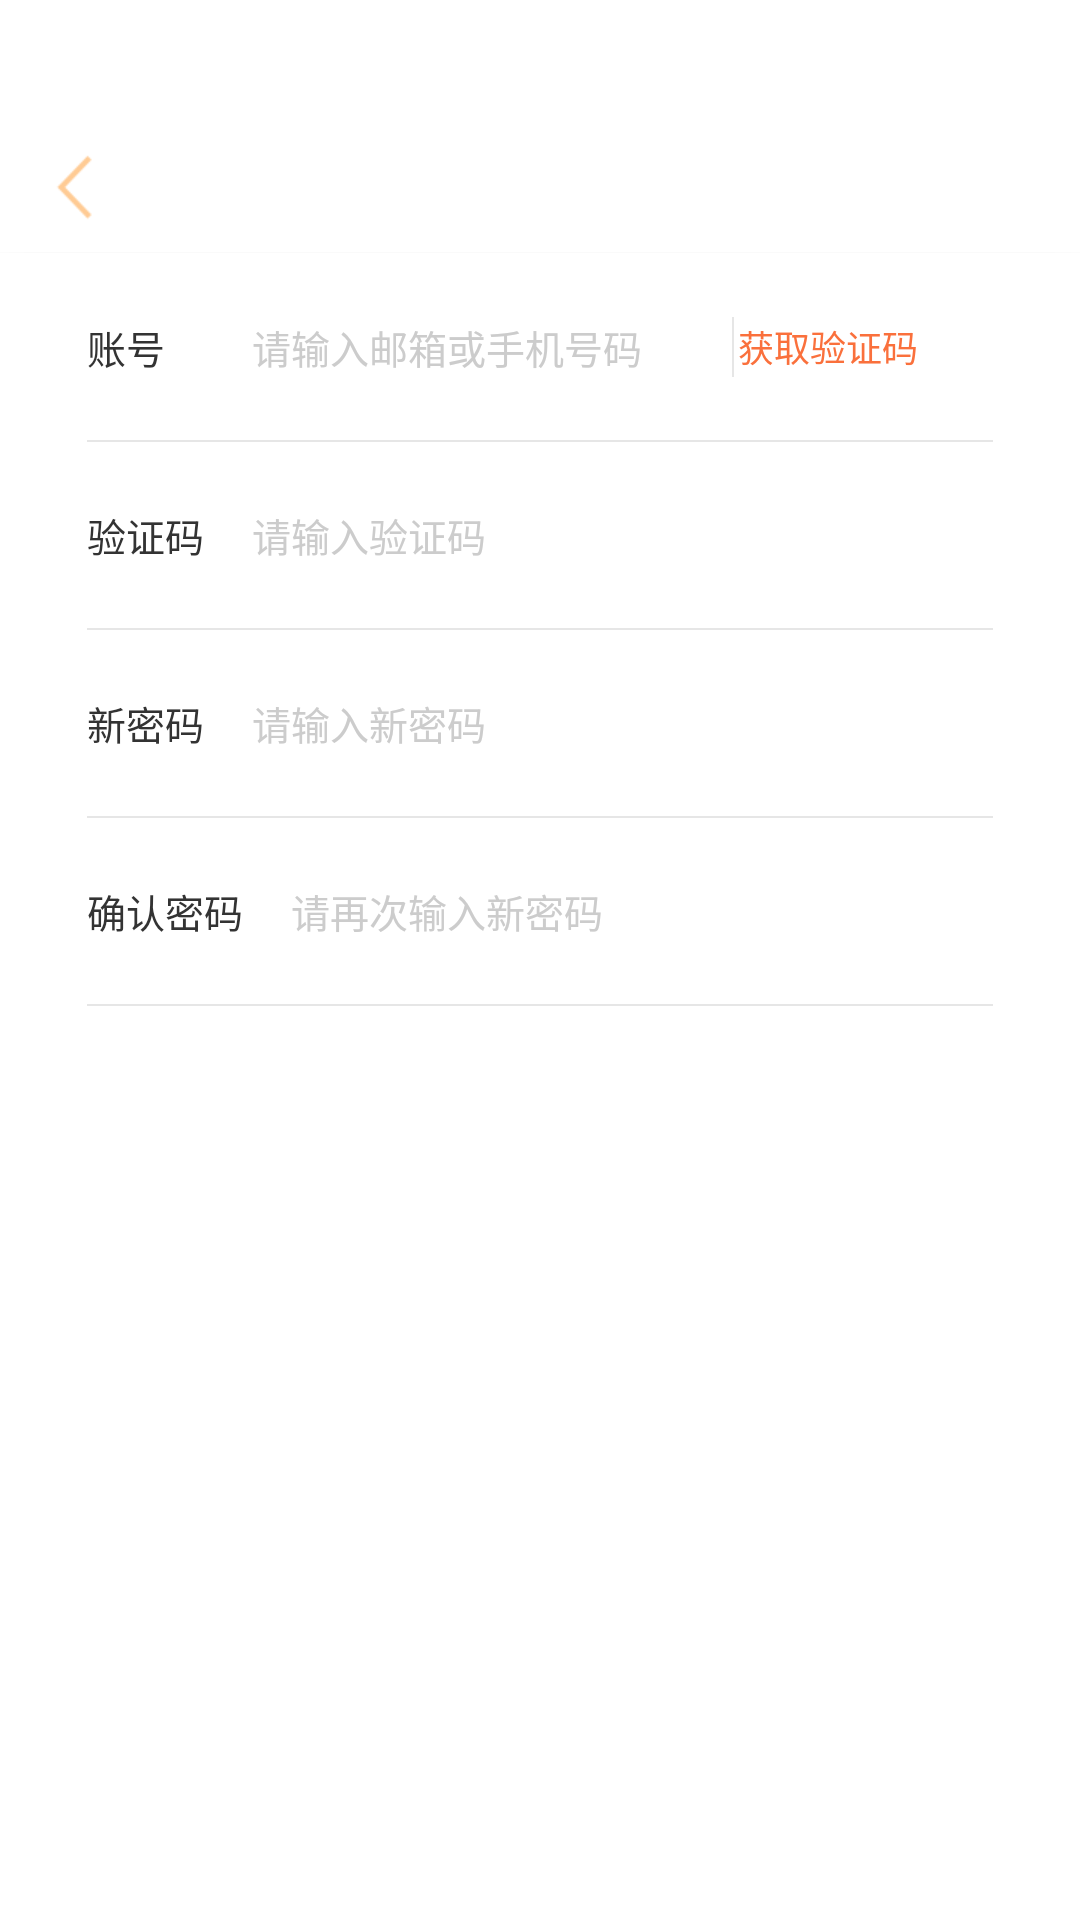

Named icons in this screenshot (1080w x 1920h) and their bounding boxes, [x1, y1, x2, y2]:
left back: [57, 156, 92, 219]
